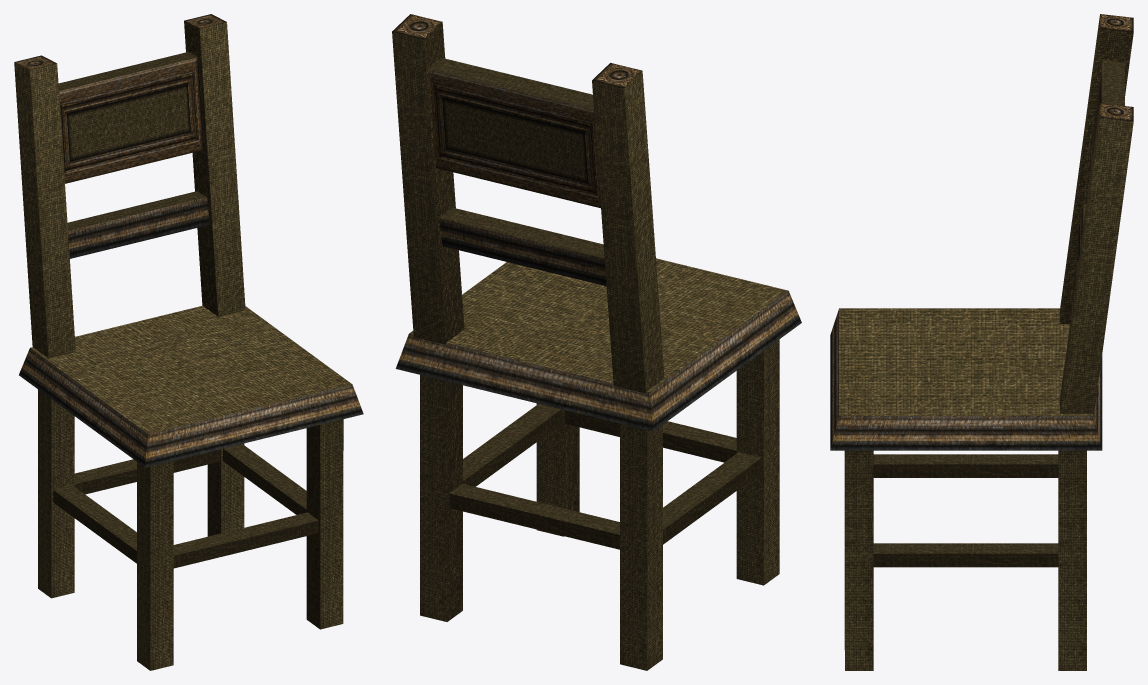
Rendered from mm9_deco_chairdesk02.glb.
The picture shows the model from 3 angles, left to right: view 1: azimuth 30°, elevation 25°; view 2: azimuth 150°, elevation 25°; view 3: azimuth 270°, elevation 25°; orthographic projection. The views are drawn at different scales.
Parts seen in each view (by area): view 1: Chairdesk02; view 2: Chairdesk02; view 3: Chairdesk02.
Part boxes in pixels (x1,y1,x2,y2): Chairdesk02: (14, 14, 363, 670); Chairdesk02: (392, 14, 801, 670); Chairdesk02: (830, 14, 1133, 670).
Bounding box in the file's own units: 0.6517 × 1.47 × 0.7271.
Materials: 2 (2 with a texture image).
